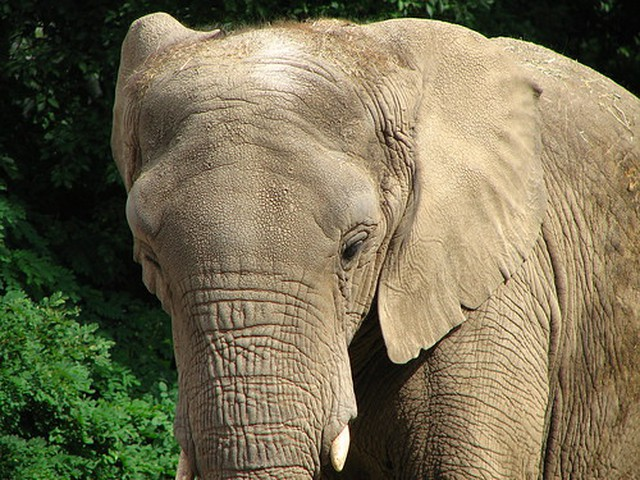Elephant: (110, 10, 640, 479)
